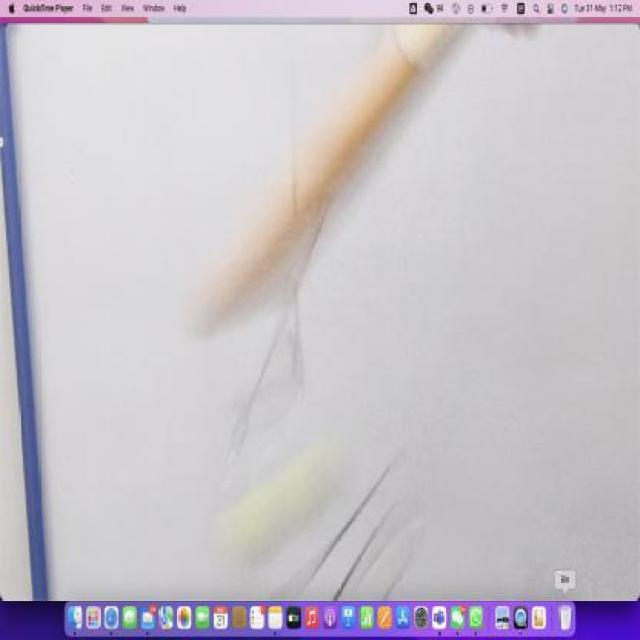baseball: (208, 479, 344, 536)
